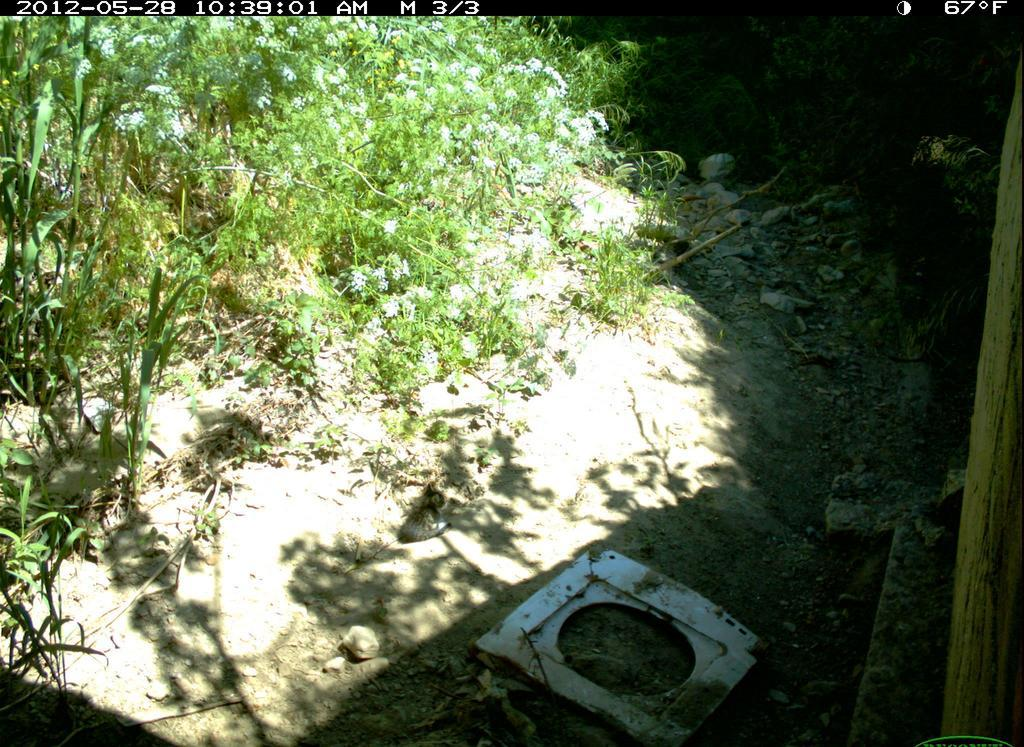cat: (393, 475, 457, 555)
